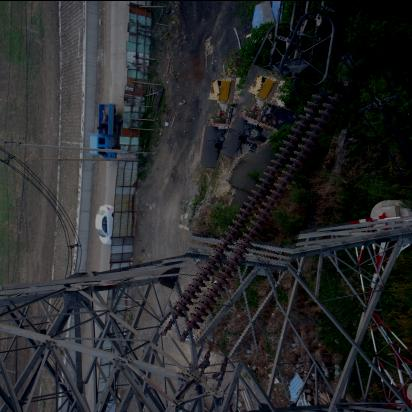insulator: (181, 68, 327, 362)
